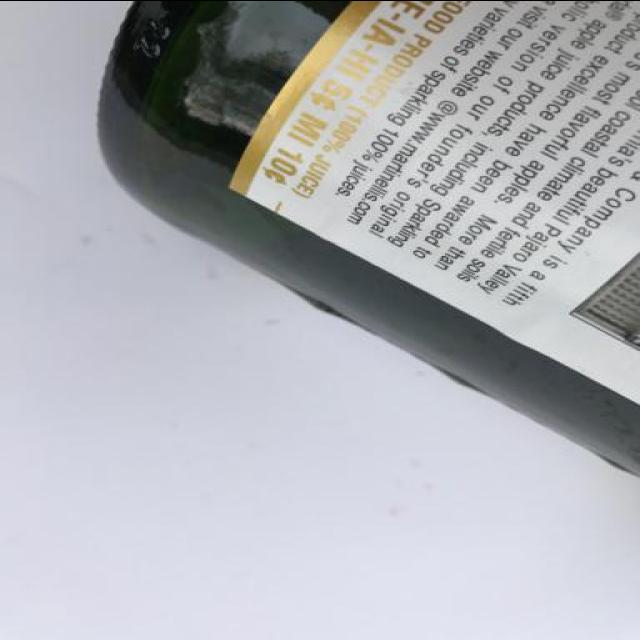Glass Bottle: (89, 1, 638, 488)
